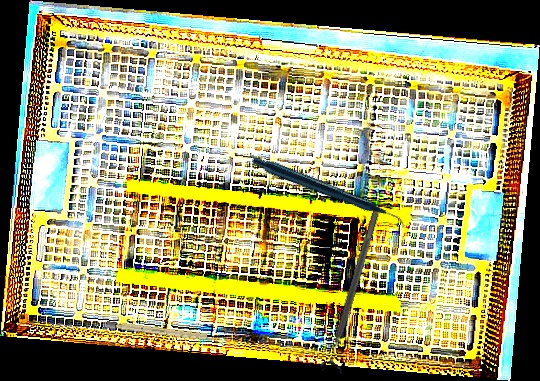Fixation Ring: (318, 206, 389, 377)
Handpiece: (249, 108, 408, 279)
Scalpel Handle: (105, 321, 221, 342)
